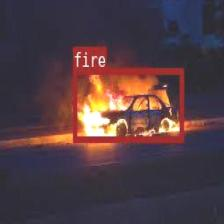fire: (72, 67, 182, 141)
